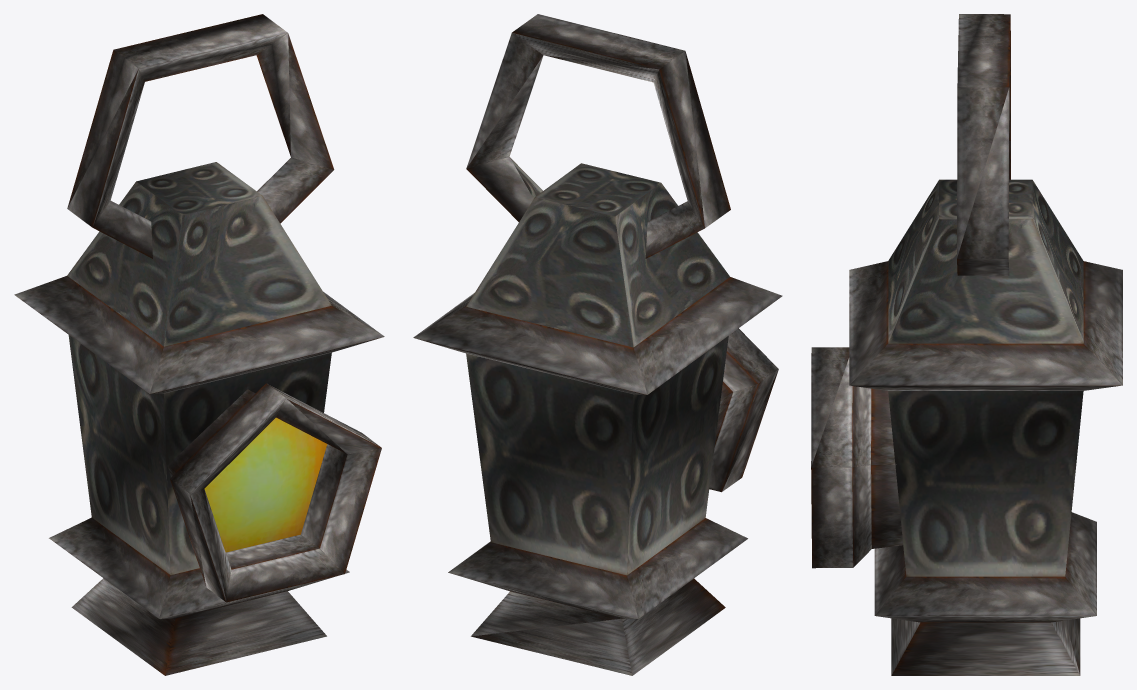
Rendered from mininglamp01.obj.
3 views of the same model, side by side, from view 1: azimuth 30°, elevation 25°; view 2: azimuth 150°, elevation 25°; view 3: azimuth 270°, elevation 25° (orthographic).
Visible parts, largest first — view 1: Geoset0, Geoset1; view 2: Geoset0; view 3: Geoset0.
Boxes of the visible parts, x1,y1,x2,y2 form: Geoset0: (14,14,384,675); Geoset1: (204,417,327,552); Geoset0: (413,14,782,675); Geoset0: (811,14,1122,675).
Bounding box in the file's own units: 0.5972 × 1.38 × 0.6636.
Materials: 2 (2 with a texture image).
